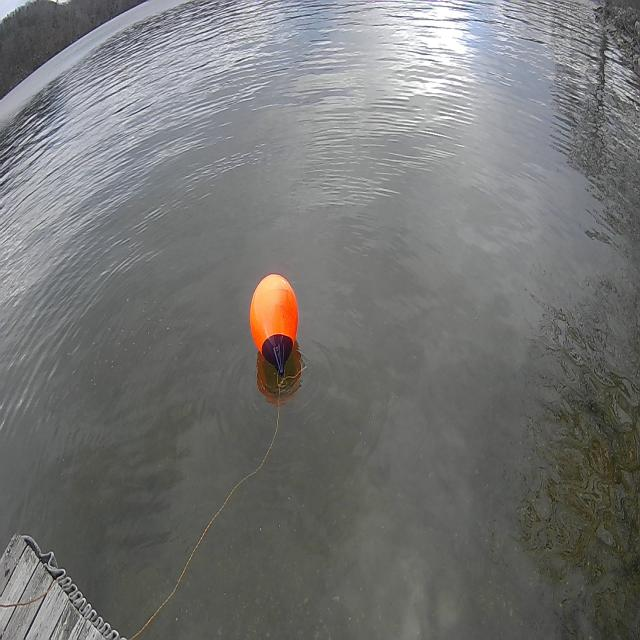Buoy: (246, 269, 304, 367)
